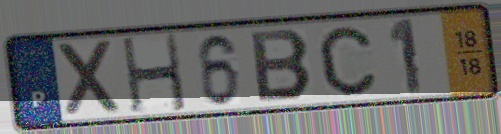1: (386, 15, 426, 98)
6: (195, 32, 244, 107)
B: (248, 27, 316, 104)
C: (316, 23, 379, 98)
H: (118, 31, 190, 116)
X: (54, 37, 126, 121)
